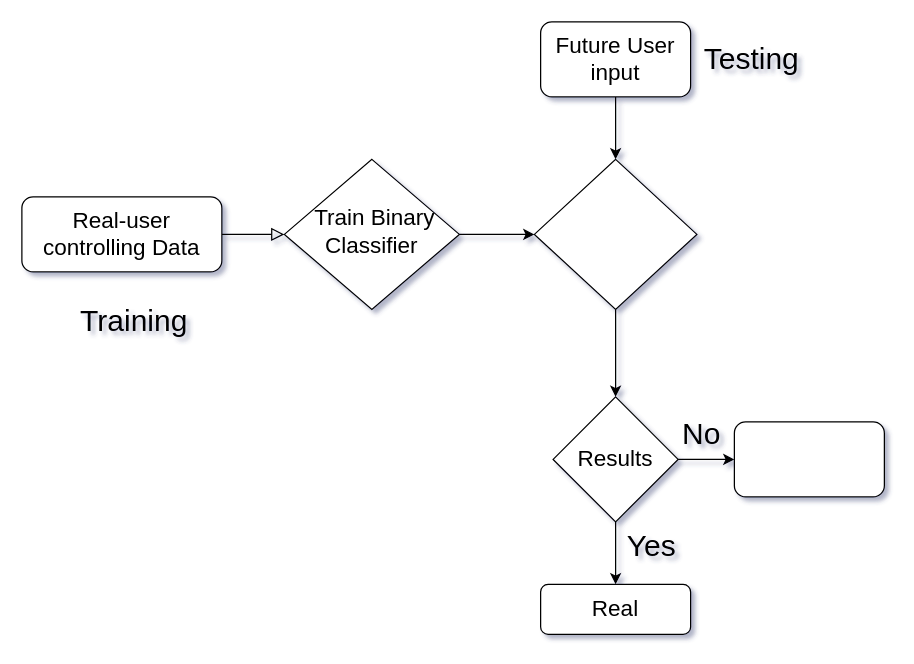
The diagram is 914 pixels wide and 664 high, and some of its shapes have lost their labels. Each missing label, with the centre of its shape:
"Cheating!" belongs at point 808,459.
"Decent Model" belongs at point 615,233.
